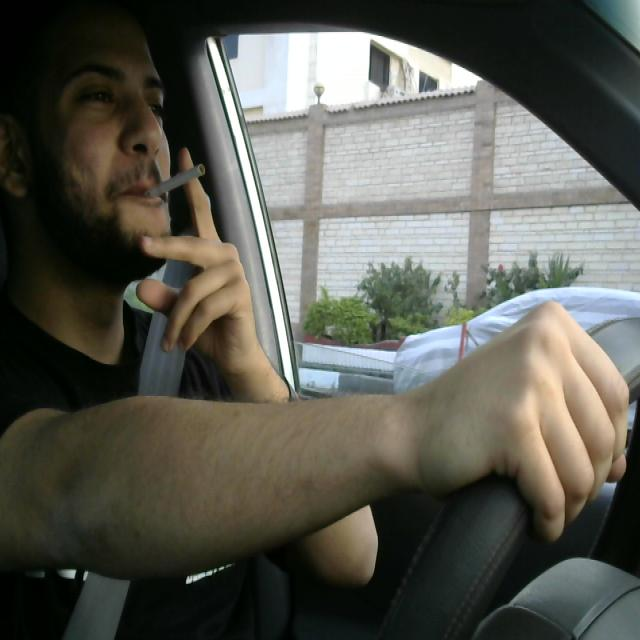smoking: (135, 160, 213, 197)
